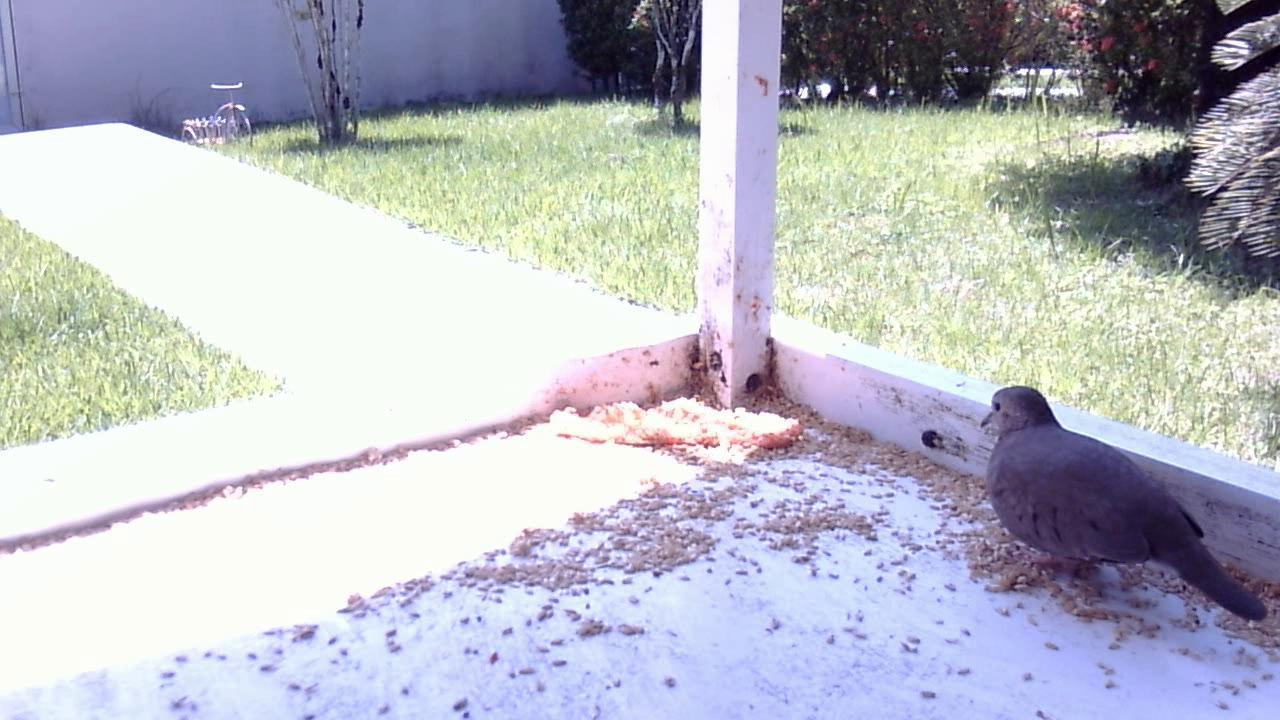rolinha: (958, 381, 1275, 641)
